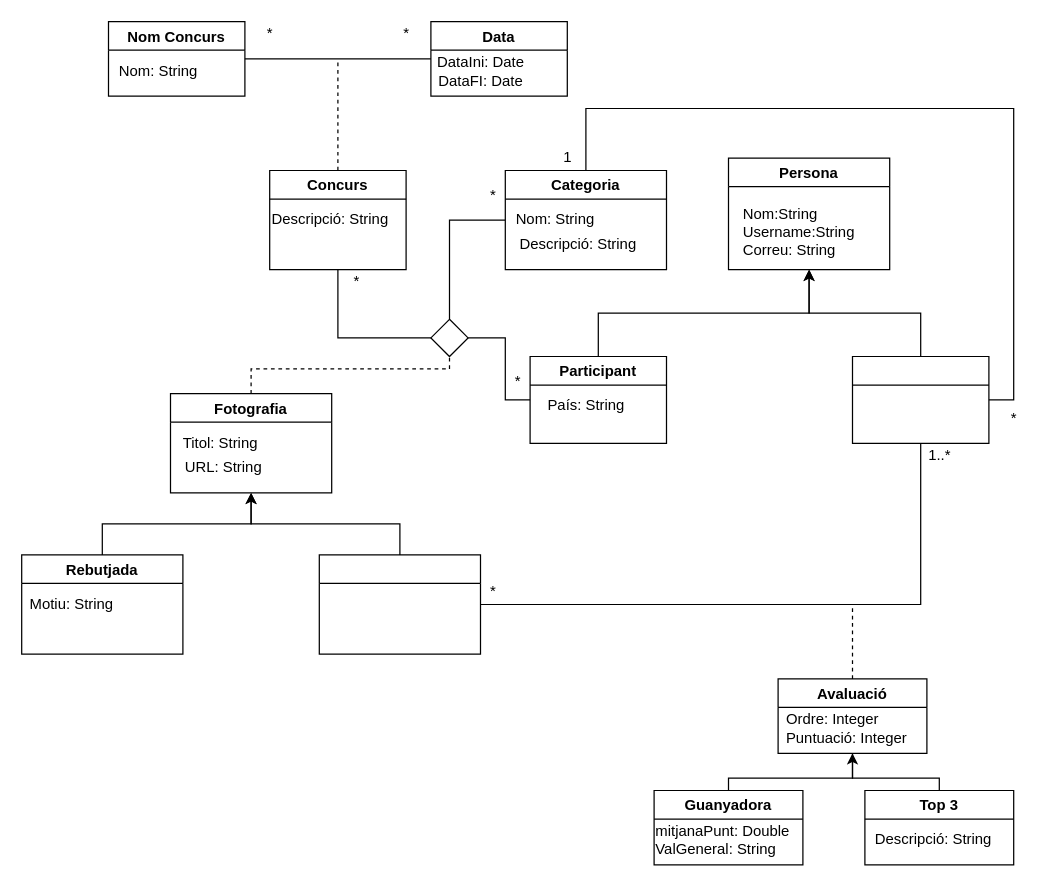
This 1048x887 diagram has some shape labels left out. Here are the shapes that lost their labels. From the top down, the centre of each, then its label:
the point at 920,399: Jurat
the point at 399,604: Acceptada
